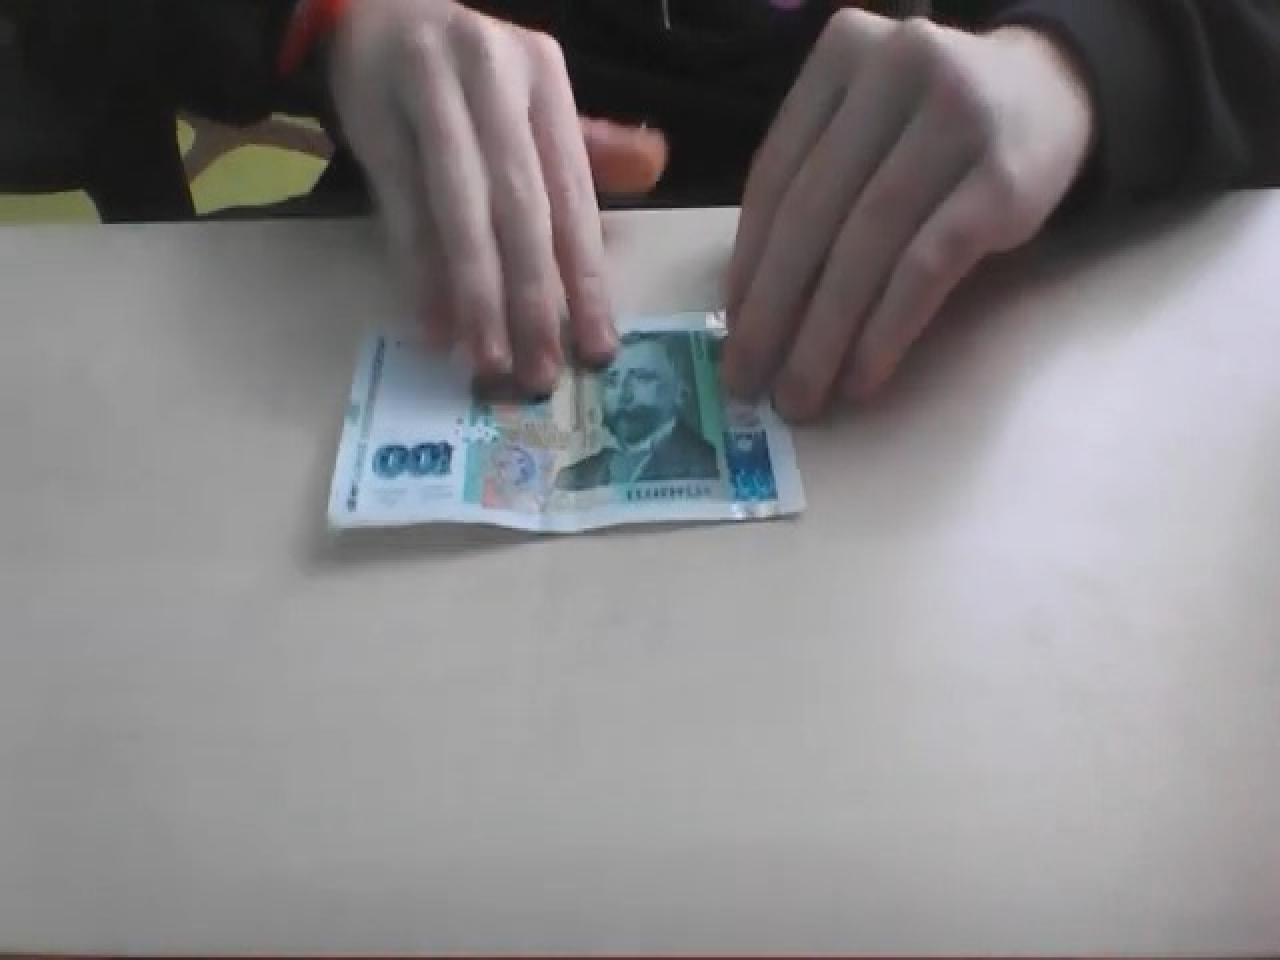100leva: (324, 315, 810, 538)
